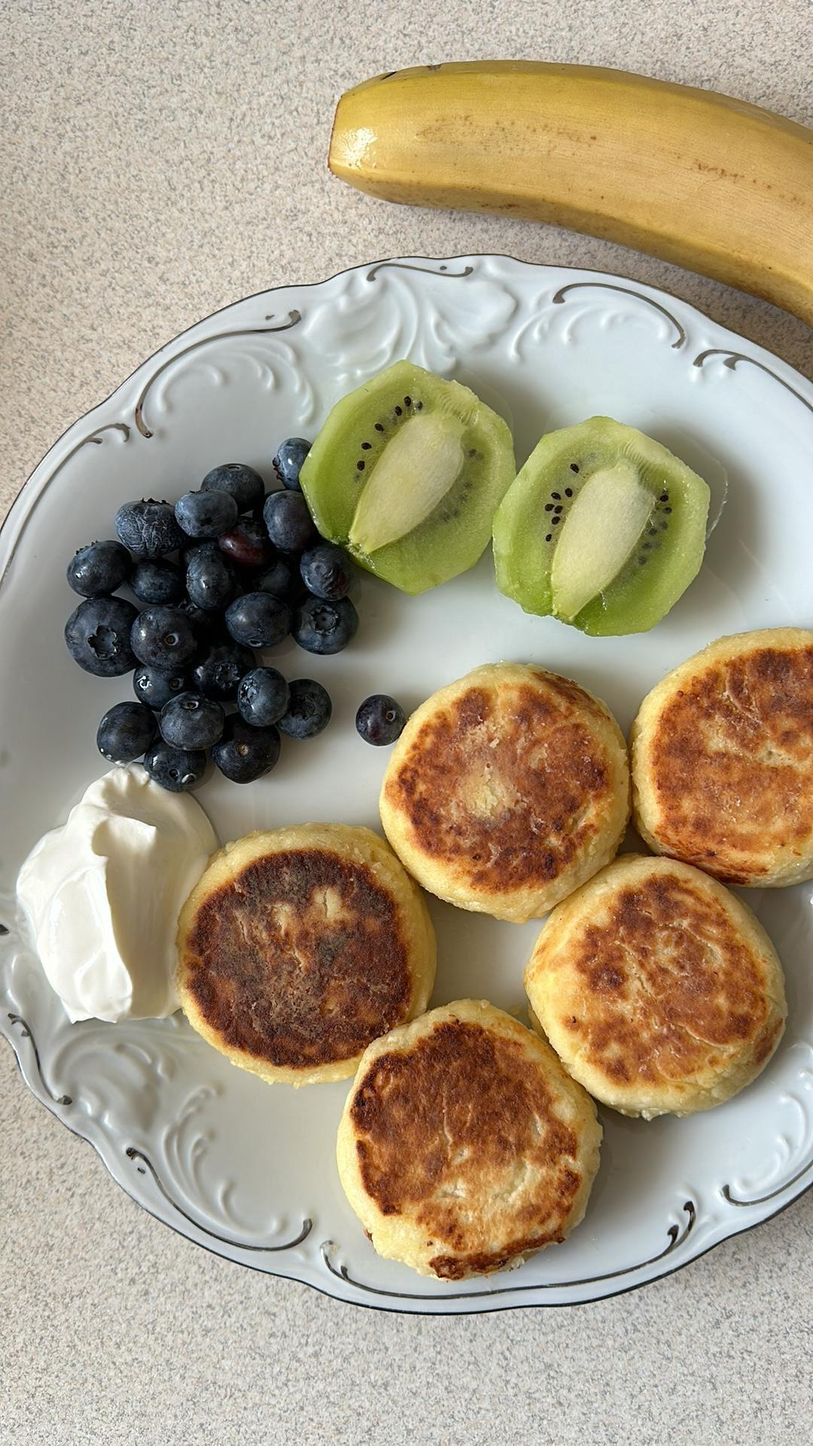banana: (324, 45, 813, 329)
blueberry: (286, 587, 361, 657), (69, 597, 136, 673), (118, 496, 188, 562), (216, 713, 279, 782), (129, 609, 201, 666), (161, 693, 228, 751), (218, 598, 287, 651), (189, 645, 259, 697), (64, 541, 128, 596), (144, 742, 213, 793), (95, 701, 153, 760), (236, 665, 288, 726), (298, 542, 347, 606), (178, 552, 236, 606), (171, 490, 239, 535), (283, 679, 331, 739), (222, 513, 273, 567), (264, 490, 311, 548), (125, 560, 184, 603), (266, 436, 312, 488), (357, 692, 401, 745), (206, 461, 262, 502), (129, 665, 190, 701)
kiwi: (301, 367, 508, 597), (495, 416, 702, 635)
